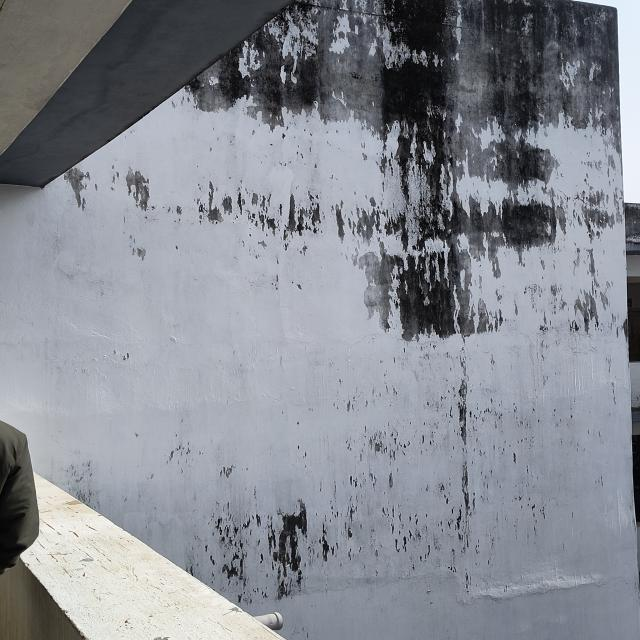Moss growth due to damping: (188, 0, 619, 340), (211, 377, 474, 604)
